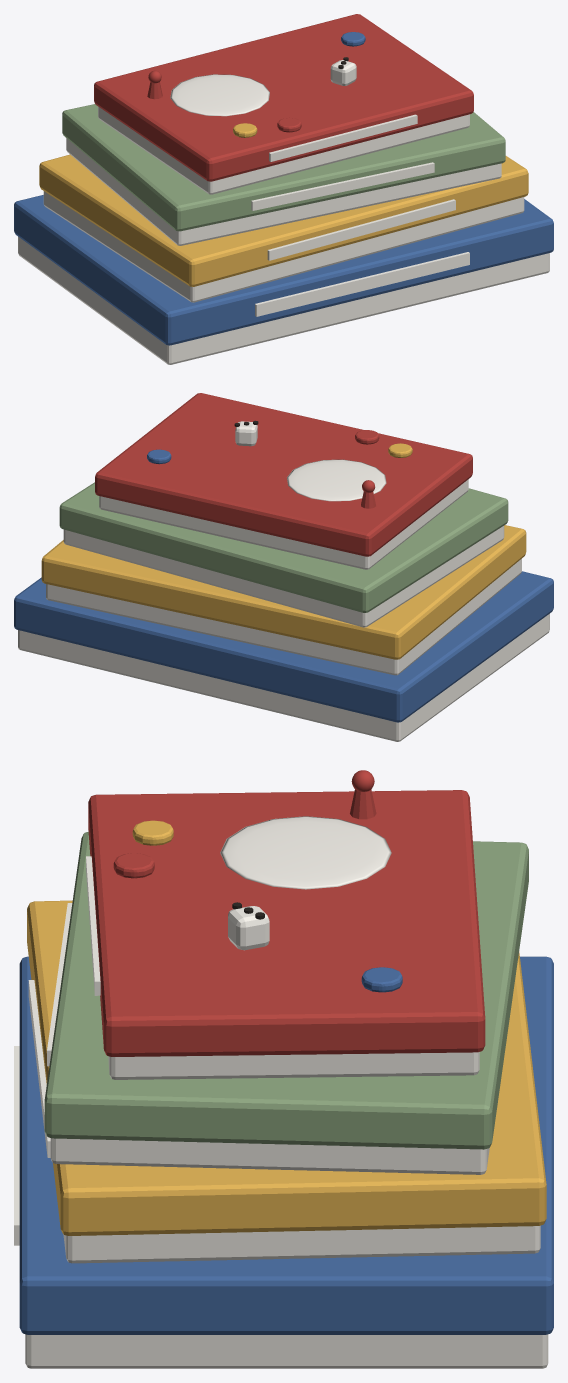
File: hh_cat_board_games.glb
The picture shows the model from 3 angles, top to bottom: view 1: azimuth 30°, elevation 25°; view 2: azimuth 150°, elevation 25°; view 3: azimuth 270°, elevation 25°; orthographic projection. The views are drawn at different scales.
Visible parts, largest first — view 1: game_lid.003, game_lid, game_lid.002, game_lid.001, game_base, game_base.001, game_base.002, game_base.003, lid_art, lid_label, lid_label.001, lid_label.002 (+2 smaller); view 2: game_lid.003, game_lid, game_lid.002, game_lid.001, game_base, game_base.001, game_base.002, game_base.003, lid_art, die; view 3: game_lid.003, game_lid, game_lid.002, game_lid.001, game_base, game_base.001, game_base.002, lid_art, game_base.003, die, lid_label, lid_label.001 (+5 smaller).
Part boxes in pixels (bbox=[...]): game_lid.003: bbox=[94, 14, 473, 181]; game_lid: bbox=[14, 195, 553, 345]; game_lid.002: bbox=[62, 104, 505, 231]; game_lid.001: bbox=[39, 154, 528, 286]; game_base: bbox=[18, 236, 549, 364]; game_base.001: bbox=[43, 191, 524, 302]; game_base.002: bbox=[66, 138, 501, 245]; game_base.003: bbox=[98, 106, 469, 194]; lid_art: bbox=[170, 74, 269, 116]; lid_label: bbox=[255, 252, 469, 316]; lid_label.001: bbox=[267, 199, 455, 260]; lid_label.002: bbox=[251, 162, 434, 210]; game_lid.003: bbox=[95, 393, 472, 556]; game_lid: bbox=[14, 571, 553, 722]; game_lid.002: bbox=[59, 482, 508, 612]; game_lid.001: bbox=[41, 525, 526, 659]; game_base: bbox=[18, 613, 549, 741]; game_base.001: bbox=[46, 558, 521, 675]; game_base.002: bbox=[63, 526, 504, 627]; game_base.003: bbox=[99, 479, 468, 569]; lid_art: bbox=[287, 459, 386, 501]; die: bbox=[235, 421, 257, 446]; game_lid.003: bbox=[88, 790, 485, 1056]; game_lid: bbox=[19, 956, 553, 1334]; game_lid.002: bbox=[44, 831, 528, 1149]; game_lid.001: bbox=[27, 900, 546, 1235]; game_base: bbox=[25, 1334, 548, 1368]; game_base.001: bbox=[63, 1225, 540, 1263]; game_base.002: bbox=[50, 1138, 489, 1174]; lid_art: bbox=[220, 816, 391, 889]; game_base.003: bbox=[108, 1052, 479, 1079]; die: bbox=[228, 906, 269, 950]; lid_label: bbox=[14, 1046, 19, 1245]; lid_label.001: bbox=[28, 980, 50, 1157].
Size of the model in its own units: 0.4 by 0.2 by 0.28.
